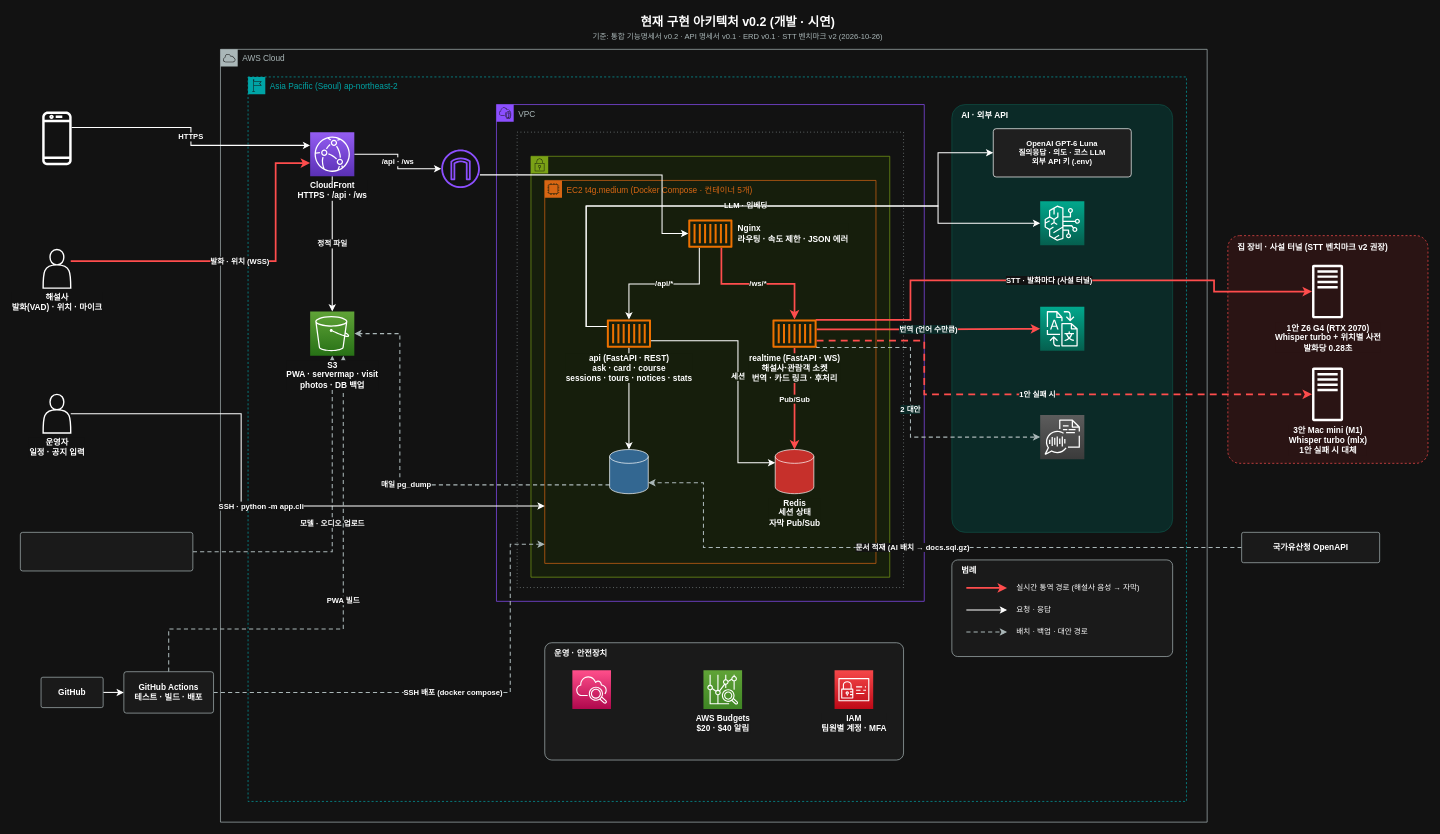
This 1440x834 diagram has some shape labels left out. Each missing label, with the box of its shape:
Availability Zone A: (516, 131, 904, 588)
Bedrock Titan 임베딩 (1024차원): (1039, 200, 1084, 245)
CloudWatch 로그 · 알람: (572, 670, 611, 709)
Internet Gateway: (441, 149, 480, 188)
PostgreSQL + pgvector docs(콘텐츠 585) 운영 테이블 7: (609, 449, 648, 494)
Public subnet: (530, 156, 890, 577)
Transcribe 2 대안 (집 장비 없을 때): (1039, 414, 1084, 459)
Translate 자막 번역 (EN · TH): (1039, 306, 1084, 351)
관광객 (QR 모바일 웹 · PWA): (41, 111, 72, 165)
외부 GPU (Colab · Kaggle · 학교) 인식 모델 학습 · TTS 합성: (20, 532, 193, 571)
